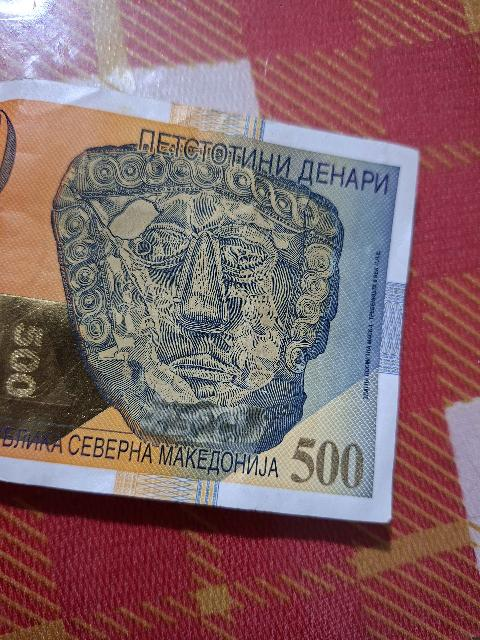500_note: (0, 81, 417, 521)
